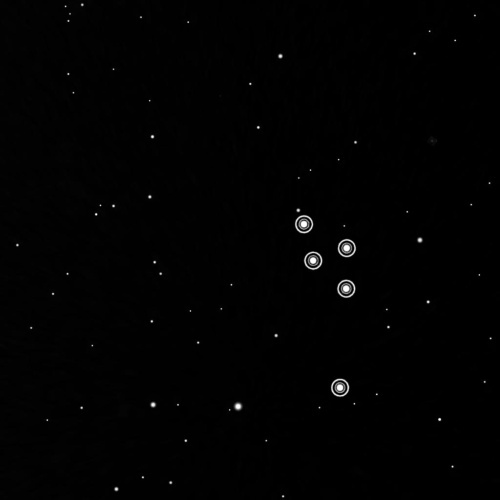delphinus: (288, 206, 360, 401)
